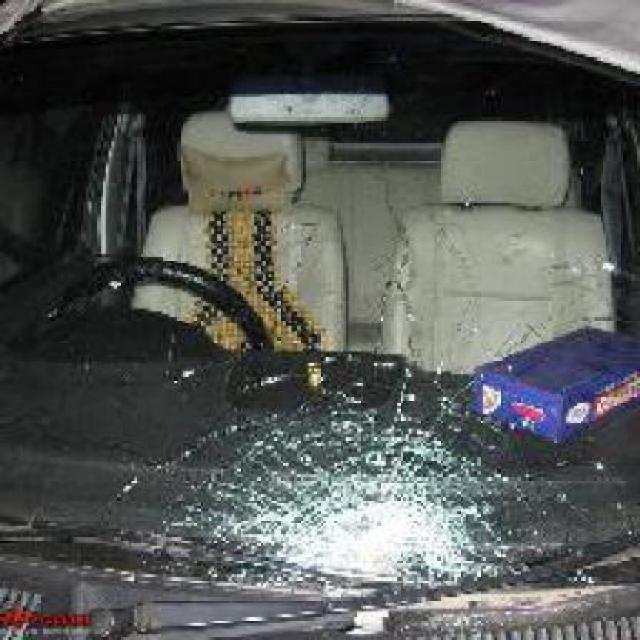damaged-windscreen: (7, 0, 638, 623)
